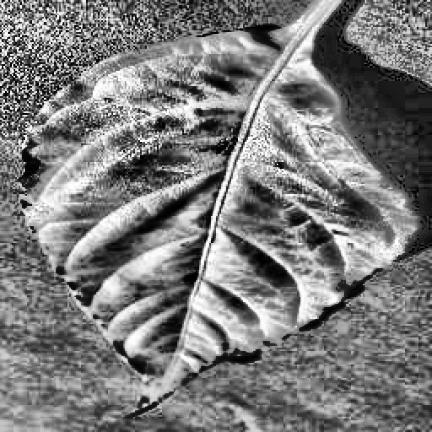leaf: (20, 0, 418, 410)
